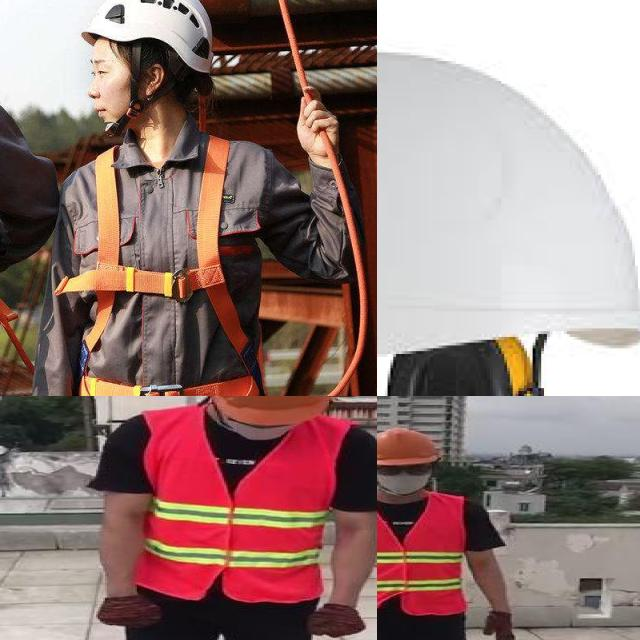Harness: (68, 134, 261, 396)
face_mask: (377, 460, 433, 495)
glasses: (377, 461, 431, 478)
hand_glove: (100, 595, 162, 627), (304, 606, 366, 637), (483, 611, 515, 640)
head_helmet: (377, 44, 640, 357), (197, 396, 341, 426), (377, 425, 439, 465)
person: (68, 396, 377, 640), (377, 426, 519, 640)
vest: (130, 411, 345, 602), (377, 494, 465, 617)
